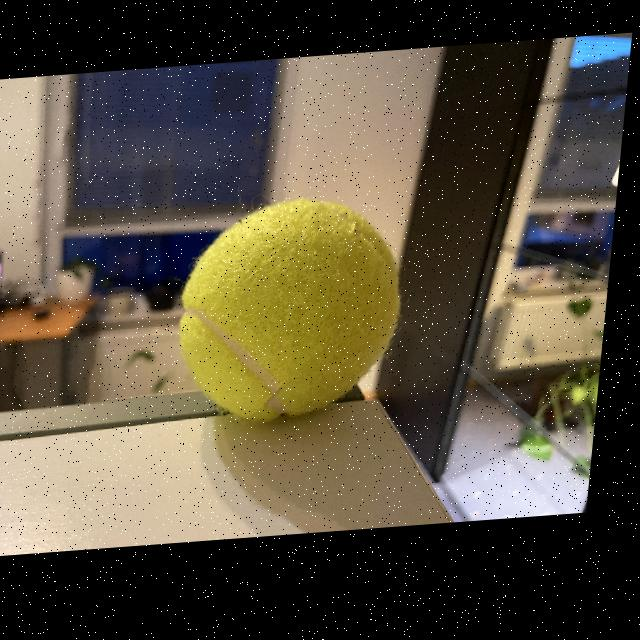Tennisball: (180, 199, 400, 421)
